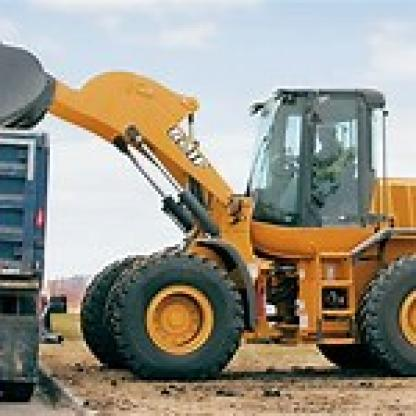excavator: (3, 3, 413, 369)
